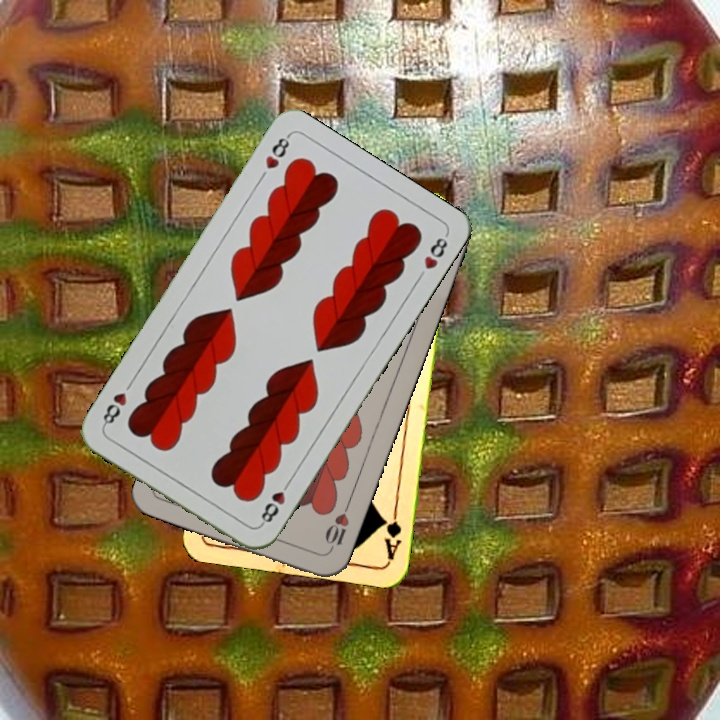GA: (379, 503, 404, 563)
H10: (321, 499, 353, 556)
H8: (256, 475, 294, 528), (261, 131, 292, 172)
